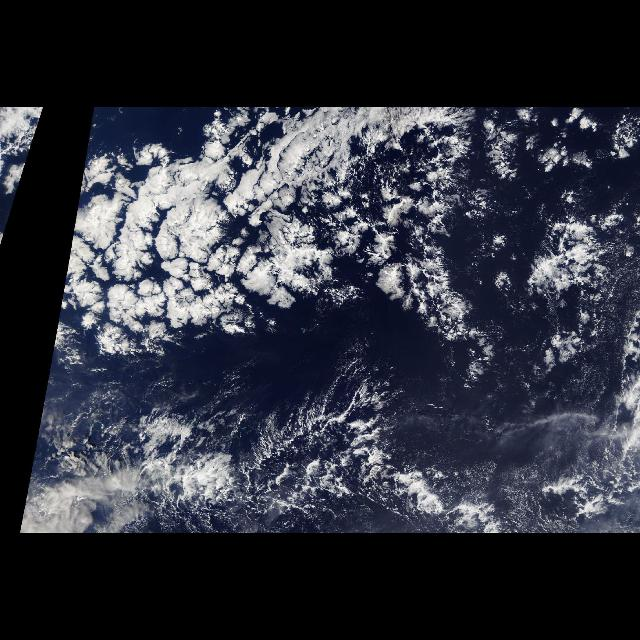Flower: (84, 118, 540, 376)
Gravel: (237, 406, 379, 526), (520, 222, 638, 364)
